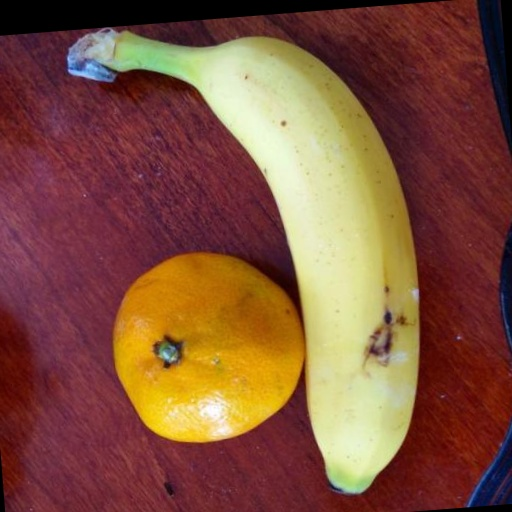fruit: (70, 30, 419, 492), (113, 253, 304, 441)
